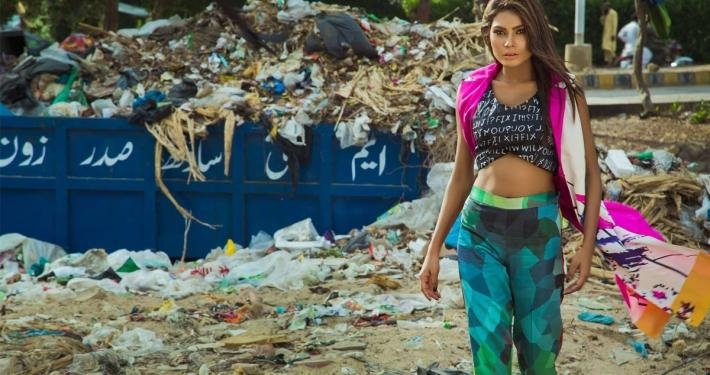garbage: (11, 2, 455, 123), (0, 212, 427, 316)
